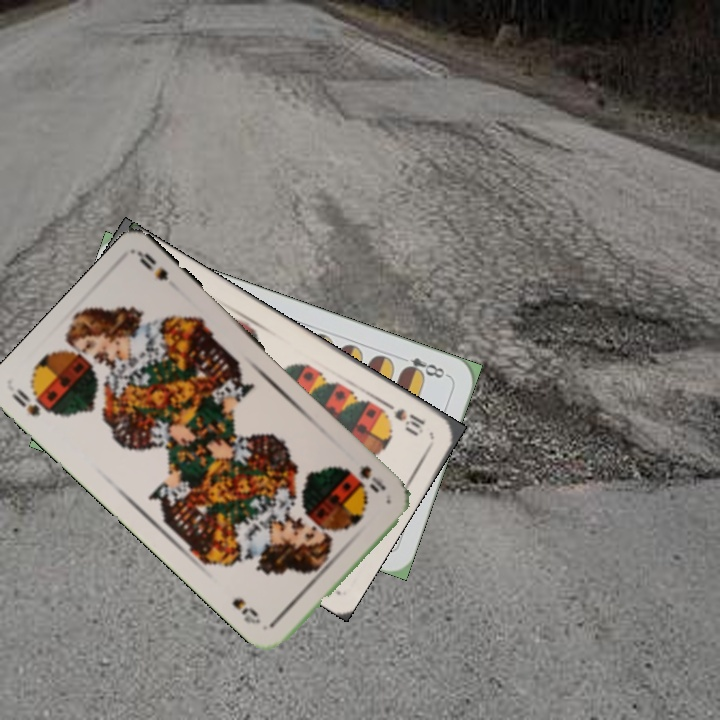E8: (394, 352, 451, 382)
S10: (380, 397, 428, 436)
SO: (7, 384, 43, 419), (355, 461, 389, 496)
